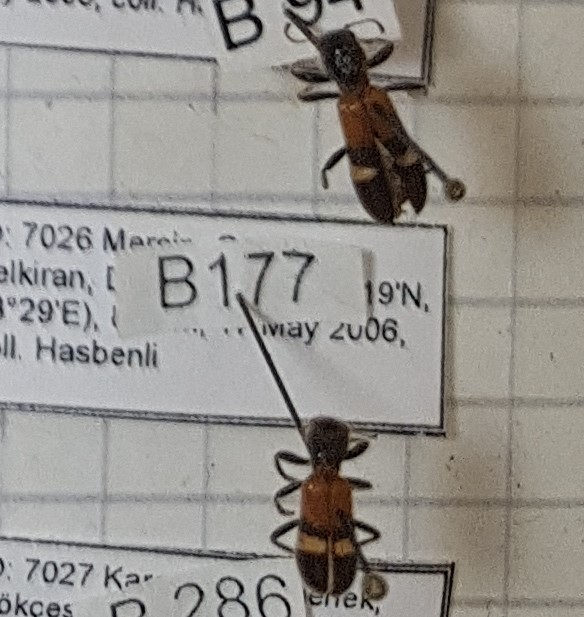opilo_taeniatus: (279, 20, 439, 223), (265, 413, 381, 596)
